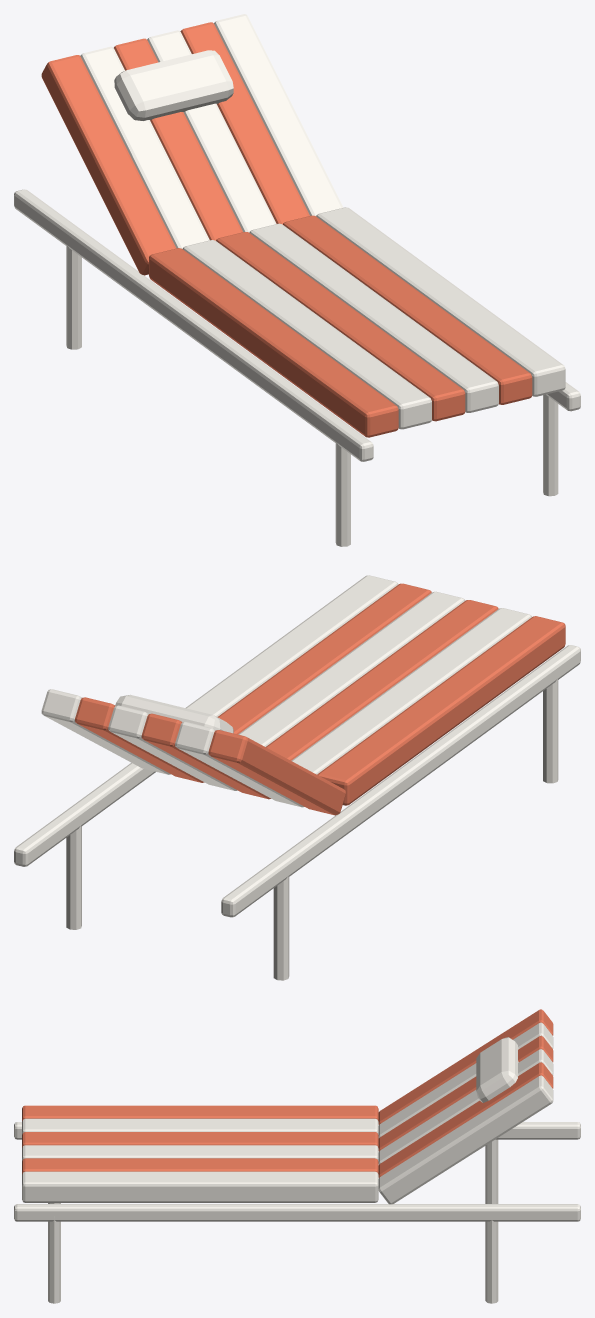
File: b_lounger_coral.gltf
3 renders of one model, top to bottom at view 1: azimuth 30°, elevation 25°; view 2: azimuth 150°, elevation 25°; view 3: azimuth 270°, elevation 25°, orthographic. The views are drawn at different scales.
Parts seen in each view (by area): view 1: b_lounger_coral; view 2: b_lounger_coral; view 3: b_lounger_coral.
Part boxes in pixels (x1=…): b_lounger_coral: x1=14, y1=14, x2=580, y2=546; b_lounger_coral: x1=14, y1=575, x2=580, y2=980; b_lounger_coral: x1=14, y1=1009, x2=580, y2=1303.
Bounding box in the file's own units: 0.64 × 0.7224 × 1.75.
1 material, 1 textured.
